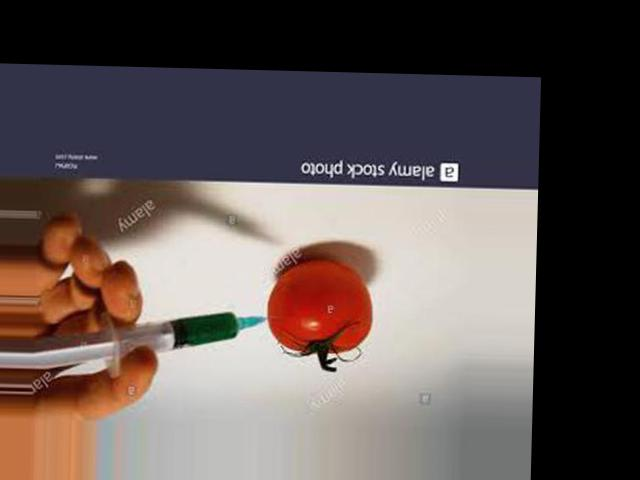tomato: (266, 258, 371, 353)
